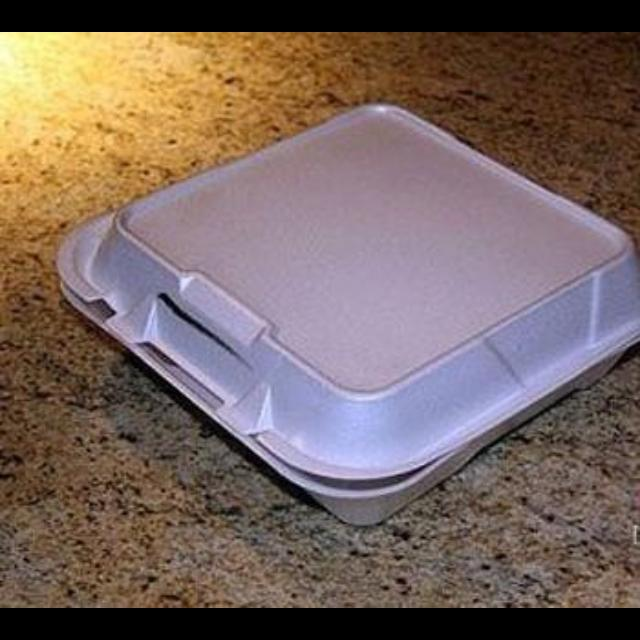plastic_box: (54, 89, 638, 527)
